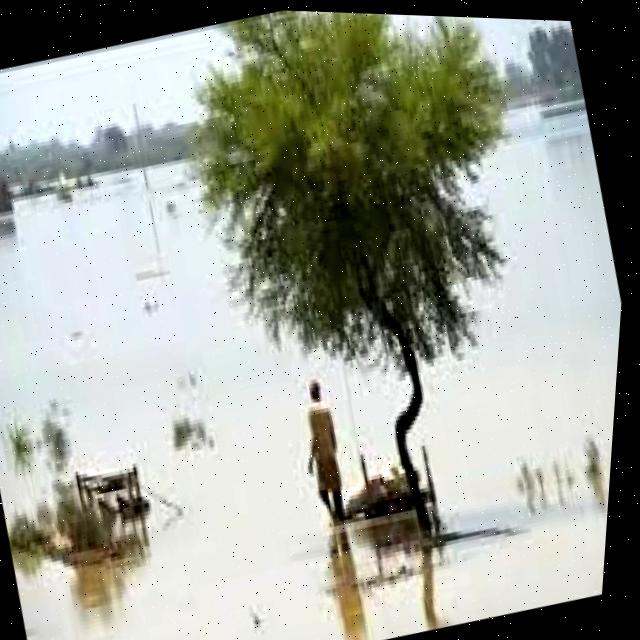civilian: (277, 371, 374, 530)
